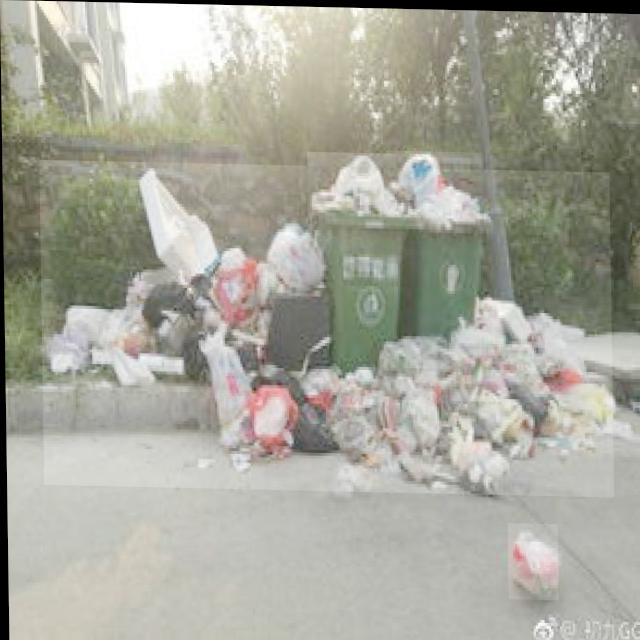garbage: (39, 160, 613, 494), (506, 521, 557, 597)
overflow: (307, 150, 415, 366), (396, 149, 485, 330)
